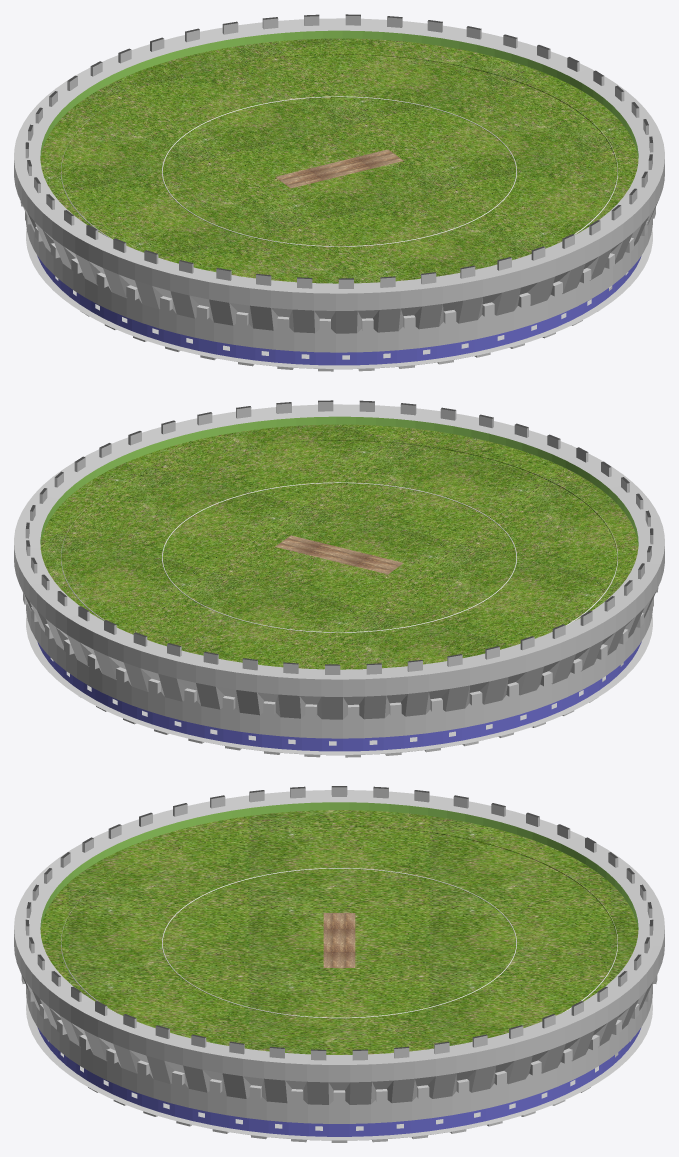
The model's file is cg_model_1_cricket_ground.glb.
The picture shows the model from 3 angles, top to bottom: view 1: azimuth 30°, elevation 25°; view 2: azimuth 150°, elevation 25°; view 3: azimuth 270°, elevation 25°; orthographic projection.
Parts seen in each view (by area): view 1: ground_0, Plane.001_2; view 2: ground_0, Plane.001_2; view 3: ground_0, Plane.001_2.
Part boxes in pixels (bbox=[...]): ground_0: bbox=[14, 14, 664, 371]; Plane.001_2: bbox=[275, 149, 403, 188]; ground_0: bbox=[14, 400, 664, 757]; Plane.001_2: bbox=[275, 535, 403, 574]; ground_0: bbox=[14, 786, 664, 1142]; Plane.001_2: bbox=[323, 913, 355, 967].
Size of what is drawn, in the model's own units: 4.57 by 0.7406 by 4.57.
7 materials, 2 textured.
